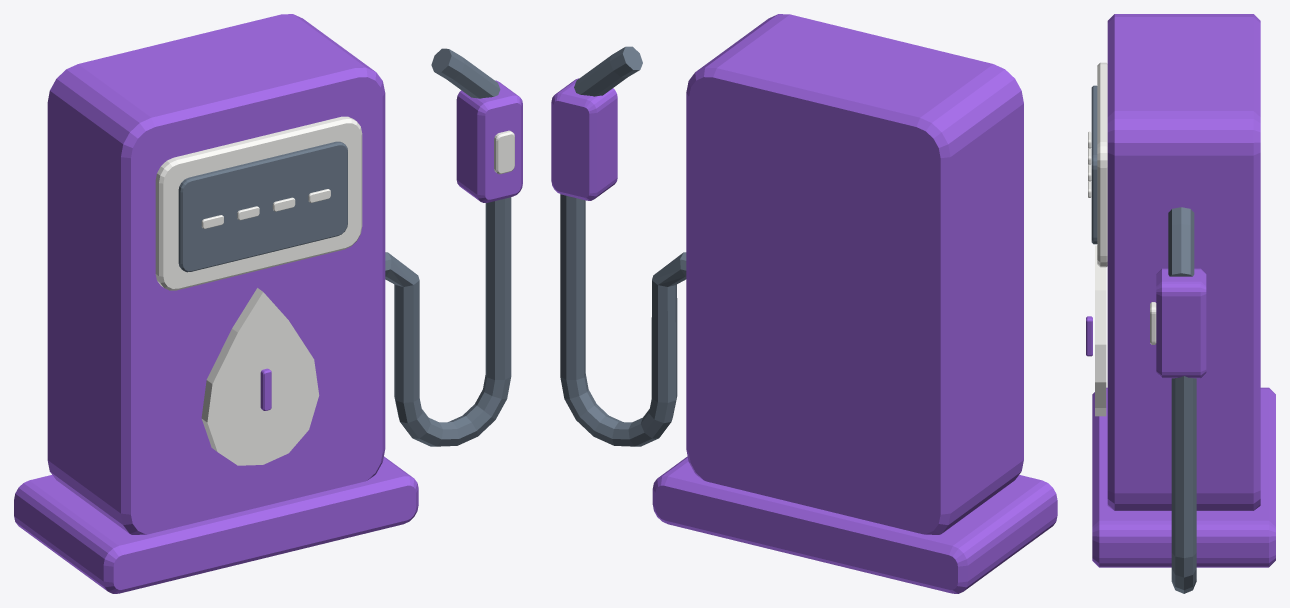
File: diesel_s10.glb
3 views of the same model, side by side, from view 1: azimuth 30°, elevation 25°; view 2: azimuth 150°, elevation 25°; view 3: azimuth 270°, elevation 25° (orthographic). The views are drawn at different scales.
Parts seen in each view (by area): view 1: diesel_s10; view 2: diesel_s10; view 3: diesel_s10.
Boxes of the visible parts, <box> form: diesel_s10: <box>14,14,522,593</box>; diesel_s10: <box>551,14,1057,593</box>; diesel_s10: <box>1086,14,1275,593</box>.
Size of the model in its own units: 1.78 by 1.73 by 0.6825.
